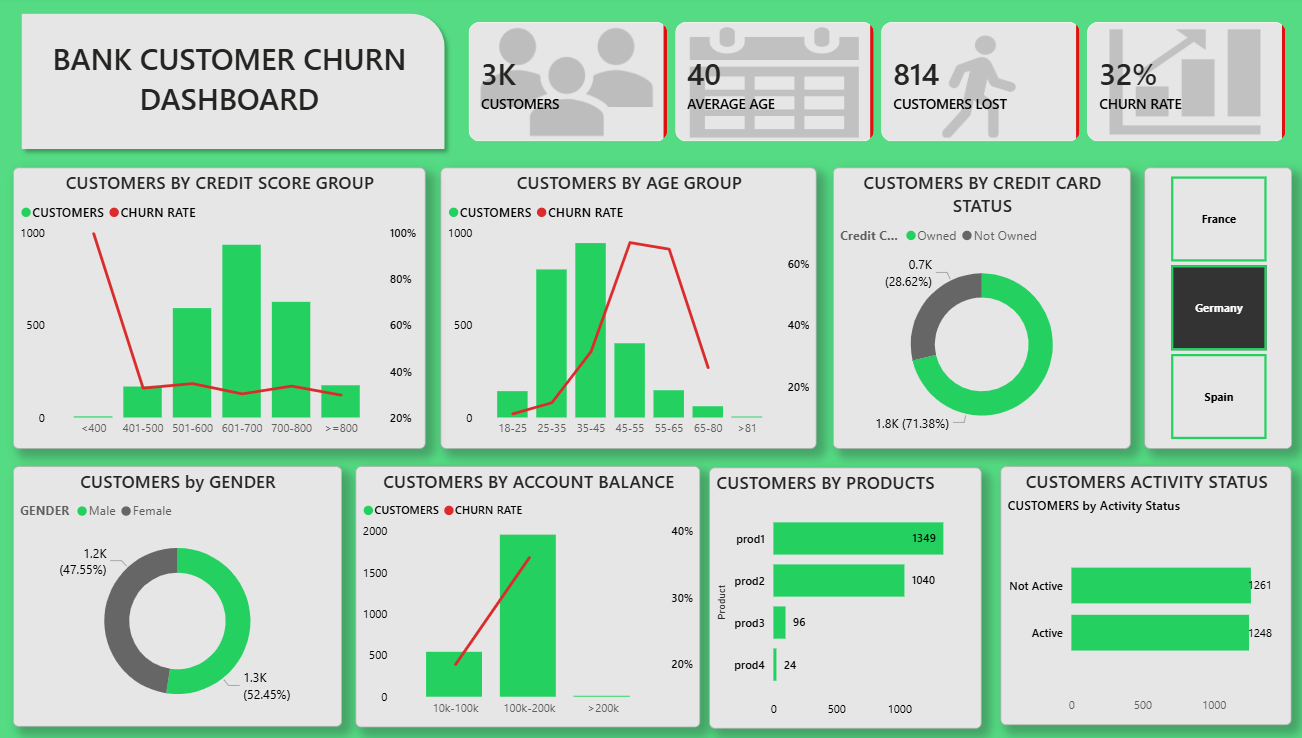

What the dashboard file says about the page in this screenshot:
{"tool":"powerbi","page":{"name":"Page 1","canvas":[1400,800],"ordinal":0},"visuals":[{"type":"cardVisual","fields":{"Data":["Customer Records.CUSTOMERS","Customer Records.AVERAGE AGE","Customer Records.CUSTOMERS LOST","Customer Records.CHURN RATE"]},"box":[487.9,12.1,911.5,162.2],"z":0},{"type":"lineClusteredColumnComboChart","title":"CHURN RATE BY AGE GROUP","fields":{"Y2":["Customer Records.CHURN RATE"],"Y":["Customer Records.CUSTOMERS"],"Category":["Age Groups.Age Group"]},"box":[406.2,185,471.9,301.6],"z":1000},{"type":"donutChart","fields":{"Y":["Customer Records.CUSTOMERS"],"Category":["Customer Records.Gender"]},"box":[16.1,185,374,301.6],"z":2000},{"type":"lineClusteredColumnComboChart","title":"CHURN RATE BY CREDIT SCORE GROUP","fields":{"Y":["Customer Records.CUSTOMERS"],"Y2":["Customer Records.CHURN RATE"],"Category":["Credit score Group.Credit Score"]},"box":[687.7,508,367.3,274.8],"z":3000},{"type":"lineClusteredColumnComboChart","title":"CHURN RATE BY ACCOUNT BALANCE","fields":{"Y2":["Customer Records.CHURN RATE"],"Y":["Customer Records.CUSTOMERS"],"Category":["Account Balance Group.Account Balance"]},"box":[343.2,506.7,332.4,276.1],"z":4000},{"type":"slicer","fields":{"Values":["Customer Records.Geography"]},"box":[1229.2,185,158.2,301.6],"z":5000},{"type":"donutChart","title":"CUSTOMERS BY PRODUCTS","fields":{"Category":["Customer Records.Product"],"Y":["Customer Records.CUSTOMERS"]},"box":[1069.7,508,317.7,274.8],"z":6000},{"type":"barChart","title":"CUSTOMERS ACTIVITY STATUS","fields":{"Category":["Customer Records.Activity Status"],"Y":["Customer Records.CUSTOMERS"]},"box":[16.1,508,316.4,274.8],"z":7000},{"type":"funnel","title":"CUSTOMERS BY CREDIT CARD STATUS","fields":{"Y":["Customer Records.CUSTOMERS"],"Category":["Customer Records.Credit Card Status"]},"box":[895.4,185,319,301.6],"z":8000},{"type":"shape","box":[16.1,10.7,471.9,163.5],"z":9000},{"type":"textbox","box":[49.6,41.6,396.8,111.3],"z":10000}]}

Visuals, with their boxes in screenshot pixels (x1, y1, x2, y2), scaled from the page's 1400x800 canvas onto the 1302x738 screenshot:
cardVisual - Customer Records.CUSTOMERS x Customer Records.AVERAGE AGE: <region>454, 11, 1301, 161</region>
"CHURN RATE BY AGE GROUP" lineClusteredColumnComboChart: <region>378, 171, 817, 449</region>
donutChart - Customer Records.CUSTOMERS x Customer Records.Gender: <region>15, 171, 363, 449</region>
"CHURN RATE BY CREDIT SCORE GROUP" lineClusteredColumnComboChart: <region>640, 469, 981, 722</region>
"CHURN RATE BY ACCOUNT BALANCE" lineClusteredColumnComboChart: <region>319, 467, 628, 722</region>
slicer - Customer Records.Geography: <region>1143, 171, 1290, 449</region>
"CUSTOMERS BY PRODUCTS" donutChart: <region>995, 469, 1290, 722</region>
"CUSTOMERS ACTIVITY STATUS" barChart: <region>15, 469, 309, 722</region>
"CUSTOMERS BY CREDIT CARD STATUS" funnel: <region>833, 171, 1129, 449</region>
shape: <region>15, 10, 454, 161</region>
textbox: <region>46, 38, 415, 141</region>
